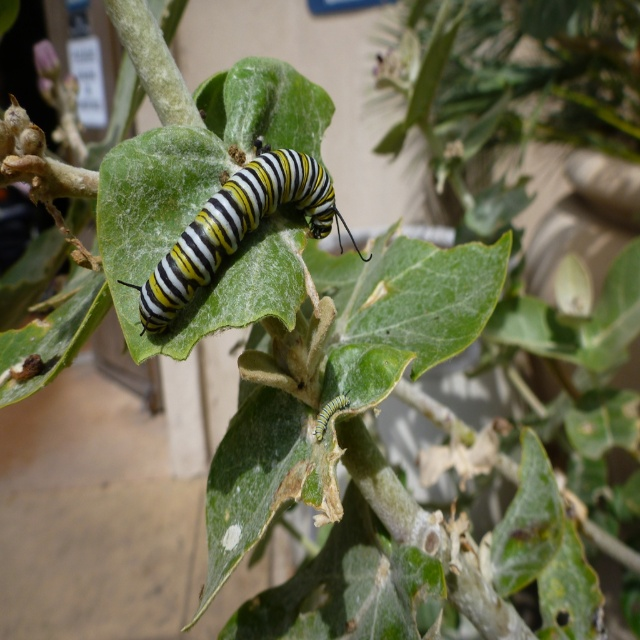Caterpillar: (113, 145, 373, 338), (316, 389, 352, 442)
